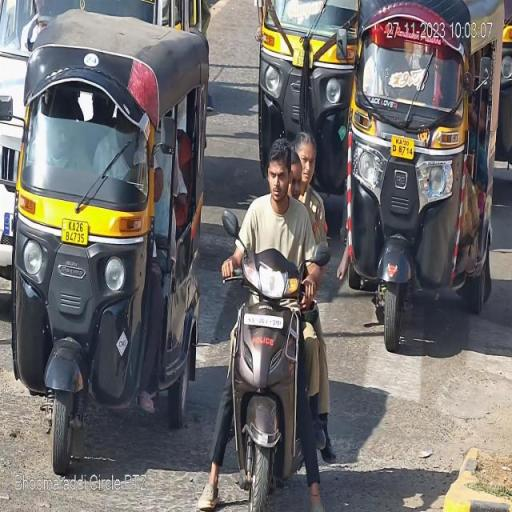tripple riding: (220, 129, 334, 324)
